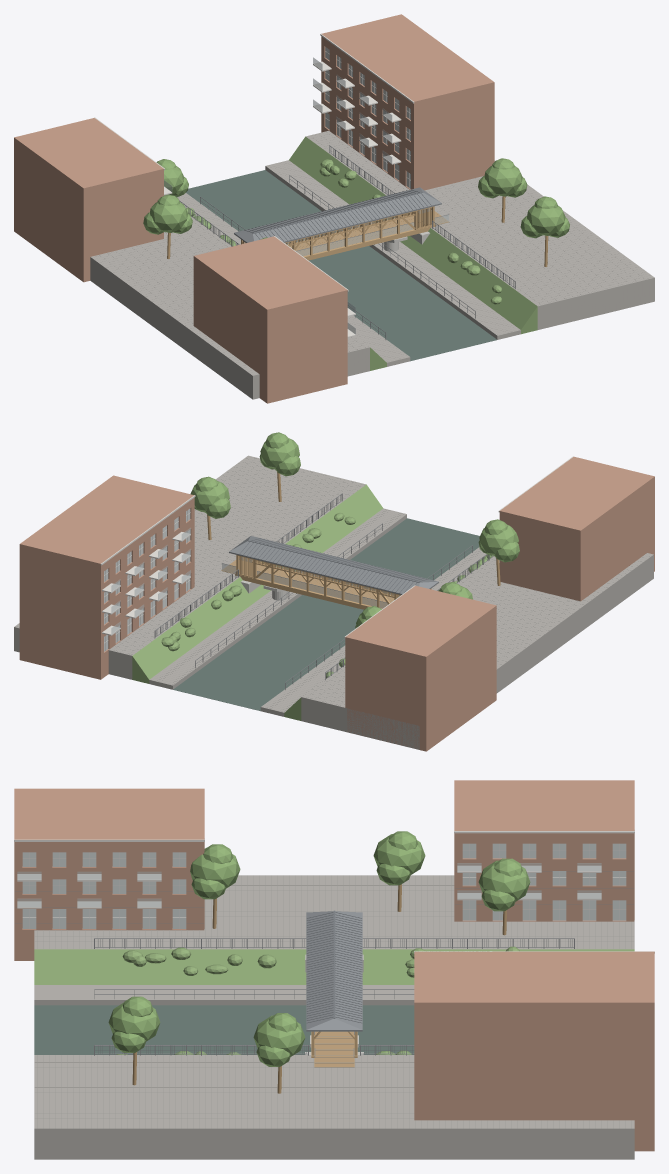
File: clay-timber-covered-footbridge-clay-v002.glb
3 renders of one model, top to bottom at view 1: azimuth 30°, elevation 25°; view 2: azimuth 150°, elevation 25°; view 3: azimuth 270°, elevation 25°, orthographic. The views are drawn at different scales.
Parts seen in each view (by area): view 1: CLAY_BRICK, CLAY_PAVING, CLAY_WATER, CLAY_PLANTING, CLAY_TREE, CLAY_JOINT, CLAY_ROOF, CLAY_TRIM, CLAY_GLASS, CLAY_HARDWARE, CLAY_GLULAM, CLAY_DECK (+2 smaller); view 2: CLAY_BRICK, CLAY_PAVING, CLAY_WATER, CLAY_PLANTING, CLAY_TREE, CLAY_JOINT, CLAY_ROOF, CLAY_TRIM, CLAY_GLASS, CLAY_HARDWARE, CLAY_GLULAM, CLAY_DECK (+2 smaller); view 3: CLAY_BRICK, CLAY_PAVING, CLAY_JOINT, CLAY_PLANTING, CLAY_WATER, CLAY_TRIM, CLAY_GLASS, CLAY_TREE, CLAY_ROOF, CLAY_HARDWARE, CLAY_SEAM, CLAY_DECK (+1 smaller).
Part boxes in pixels (box(x1,y1,x2,y2)): CLAY_BRICK: box(14, 14, 494, 403); CLAY_PAVING: box(90, 130, 654, 399); CLAY_WATER: box(186, 170, 496, 361); CLAY_PLANTING: box(186, 136, 537, 370); CLAY_TREE: box(143, 158, 569, 239); CLAY_JOINT: box(95, 132, 652, 372); CLAY_ROOF: box(234, 187, 441, 242); CLAY_TRIM: box(94, 34, 414, 337); CLAY_GLASS: box(164, 47, 448, 334); CLAY_HARDWARE: box(179, 145, 515, 339); CLAY_GLULAM: box(241, 206, 435, 260); CLAY_DECK: box(290, 211, 448, 255); CLAY_BRICK: box(19, 456, 654, 751); CLAY_PAVING: box(14, 455, 653, 749); CLAY_WATER: box(173, 518, 479, 710); CLAY_PLANTING: box(132, 484, 493, 720); CLAY_TREE: box(190, 432, 519, 628); CLAY_JOINT: box(16, 457, 649, 711); CLAY_ROOF: box(229, 536, 438, 594); CLAY_TRIM: box(100, 456, 573, 651); CLAY_GLASS: box(104, 509, 393, 651); CLAY_HARDWARE: box(154, 493, 493, 689); CLAY_GLULAM: box(235, 555, 431, 609); CLAY_DECK: box(221, 560, 394, 608); CLAY_BRICK: box(14, 780, 654, 1151); CLAY_PAVING: box(34, 875, 634, 1159); CLAY_JOINT: box(15, 871, 633, 1128); CLAY_PLANTING: box(34, 946, 634, 1054); CLAY_WATER: box(34, 1005, 414, 1054); CLAY_TRIM: box(14, 831, 654, 953); CLAY_GLASS: box(17, 843, 626, 928); CLAY_TREE: box(108, 831, 530, 1066); CLAY_ROOF: box(306, 911, 362, 1031); CLAY_HARDWARE: box(94, 938, 574, 1057); CLAY_SEAM: box(306, 910, 362, 1023); CLAY_DECK: box(314, 1031, 354, 1067).
Size of the model in its own units: 61 by 16.4 by 64.1.
